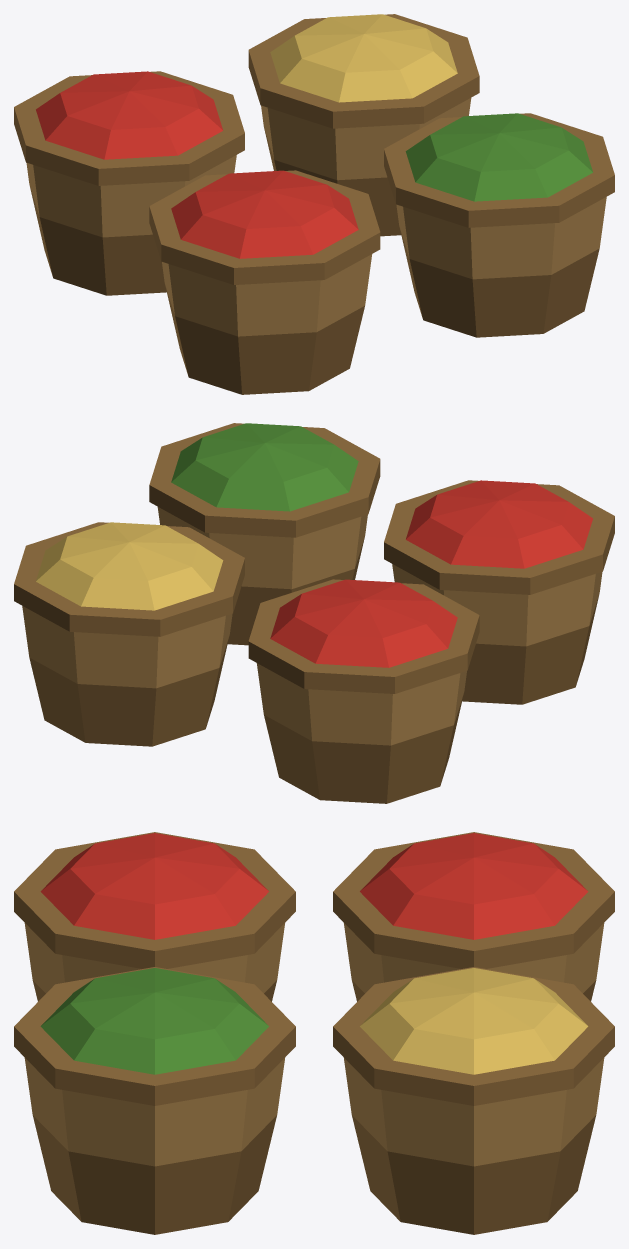
Rendered from pile_baskets_2.glb.
3 renders of one model, top to bottom at view 1: azimuth 30°, elevation 25°; view 2: azimuth 150°, elevation 25°; view 3: azimuth 270°, elevation 25°, orthographic. The views are drawn at different scales.
Visible parts, largest first — view 1: pile_baskets_2; view 2: pile_baskets_2; view 3: pile_baskets_2.
Boxes of the visible parts, x1,y1,x2,y2 form: pile_baskets_2: (14,14,614,394); pile_baskets_2: (14,423,614,803); pile_baskets_2: (14,832,614,1234).
Bounding box in the file's own units: 1.36 × 0.4945 × 1.36.
